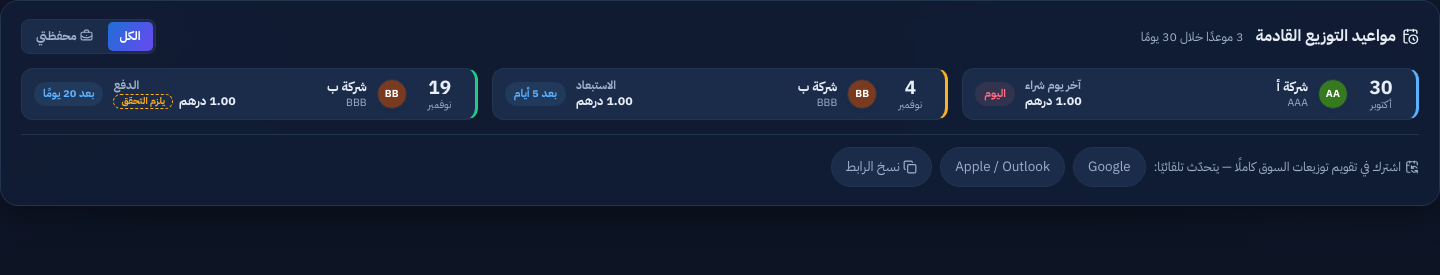
أجندة مواعيد التوزيع القادمة › «محفظتي» تقصر المواعيد على أسهم المحفظة، وتعرض رسالة حين لا شيء
Click the button "محفظتي" at (64, 37), box x1=24 y1=22 x2=105 y2=51
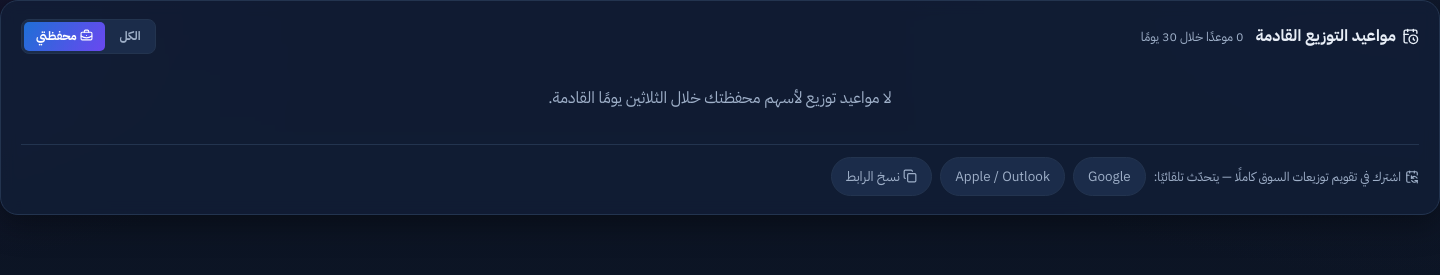
Now the text "لا مواعيد توزيع لأسهم محفظتك خلال الثلاثين يومًا القادمة." is shown, box x1=548 y1=86 x2=892 y2=110
